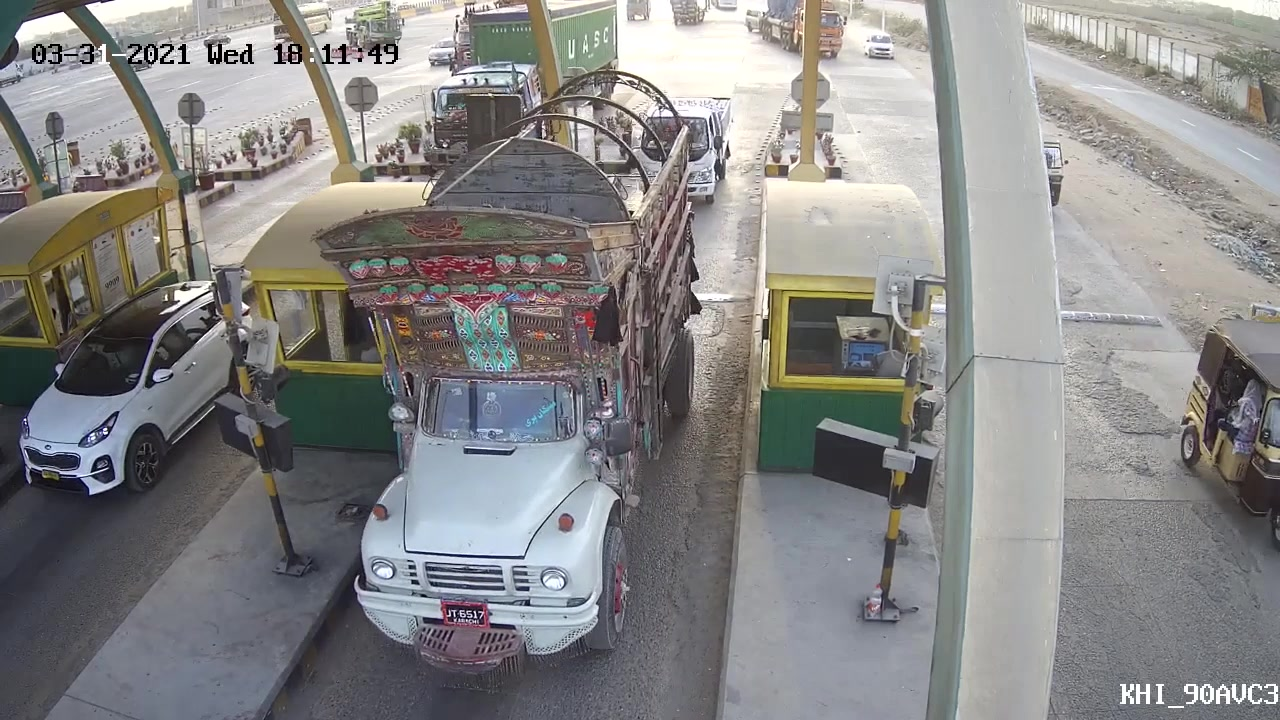F5: (305, 67, 719, 696)
